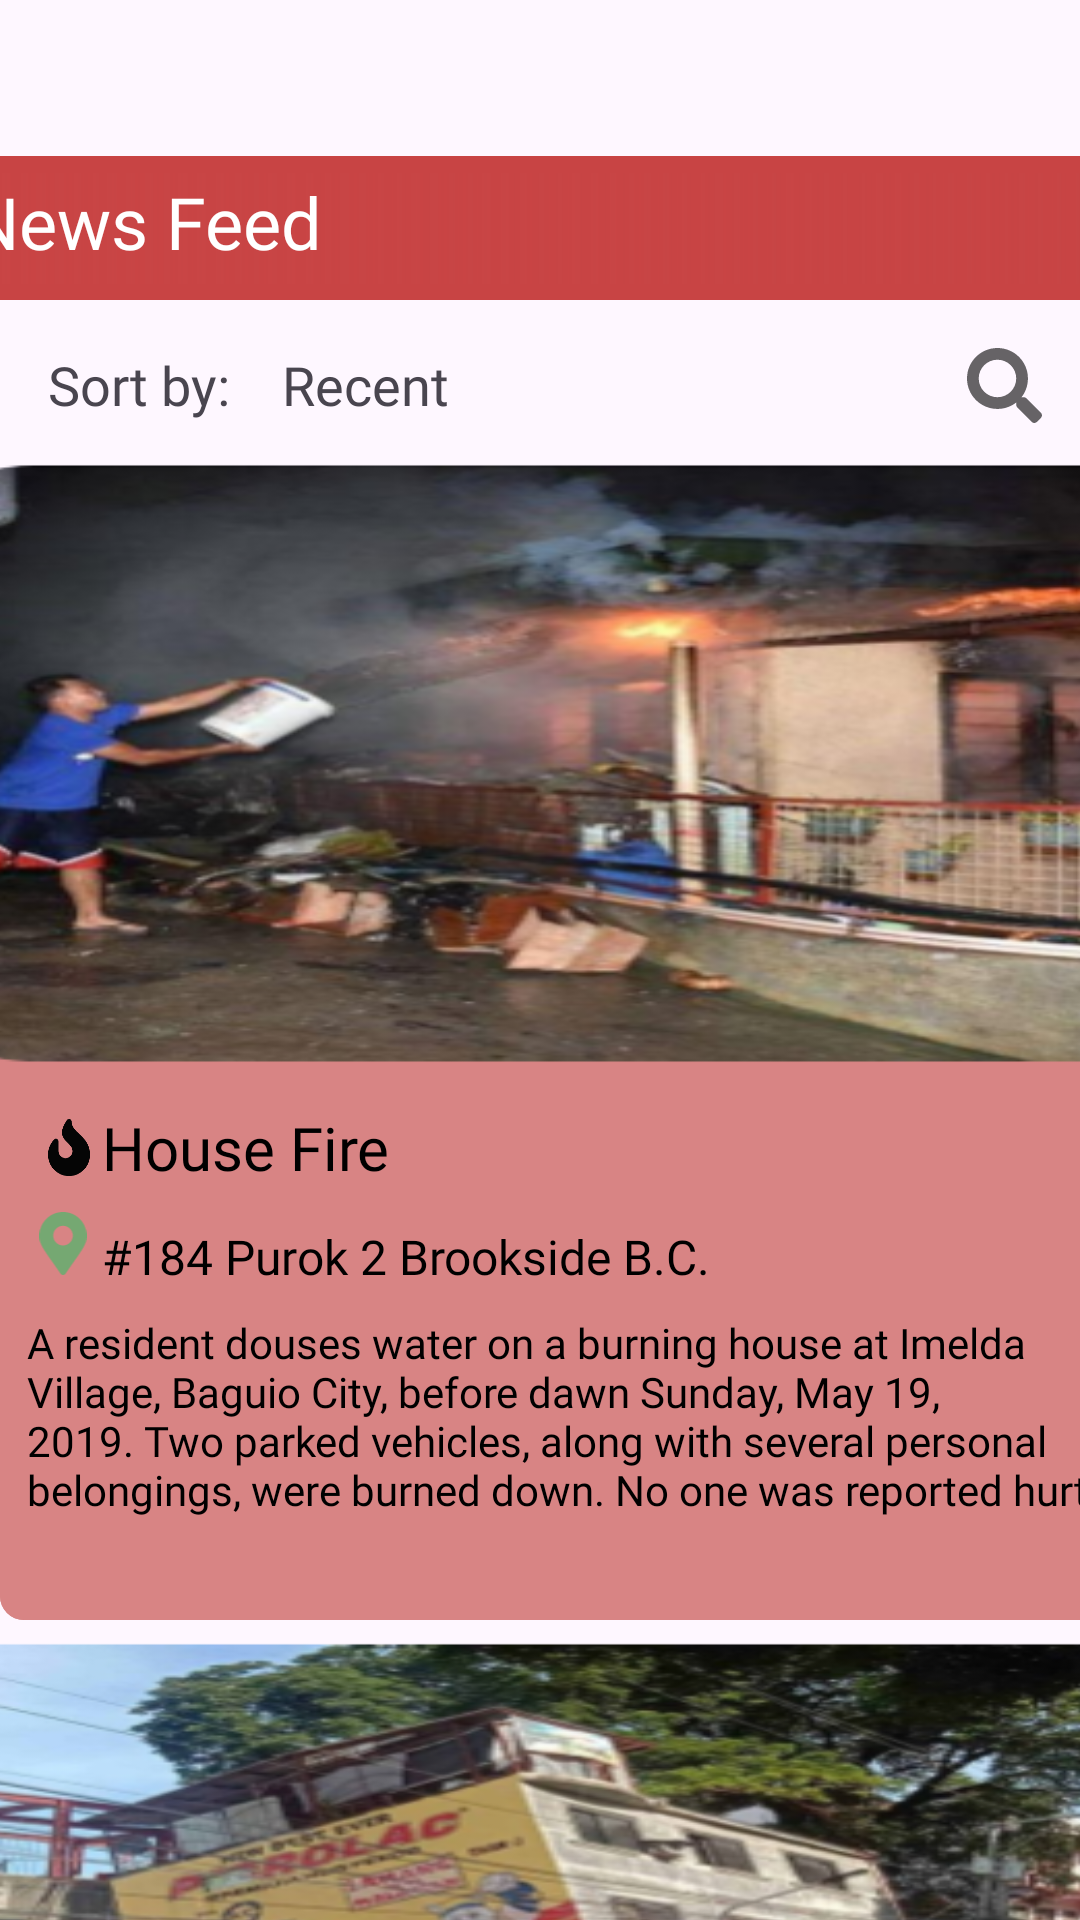

Screen size 1080*1920. Icon name, then its box in pixels as (x1, y1, x2, y2):
pinlocation: (39, 1212, 87, 1275)
search: (967, 348, 1042, 423)
